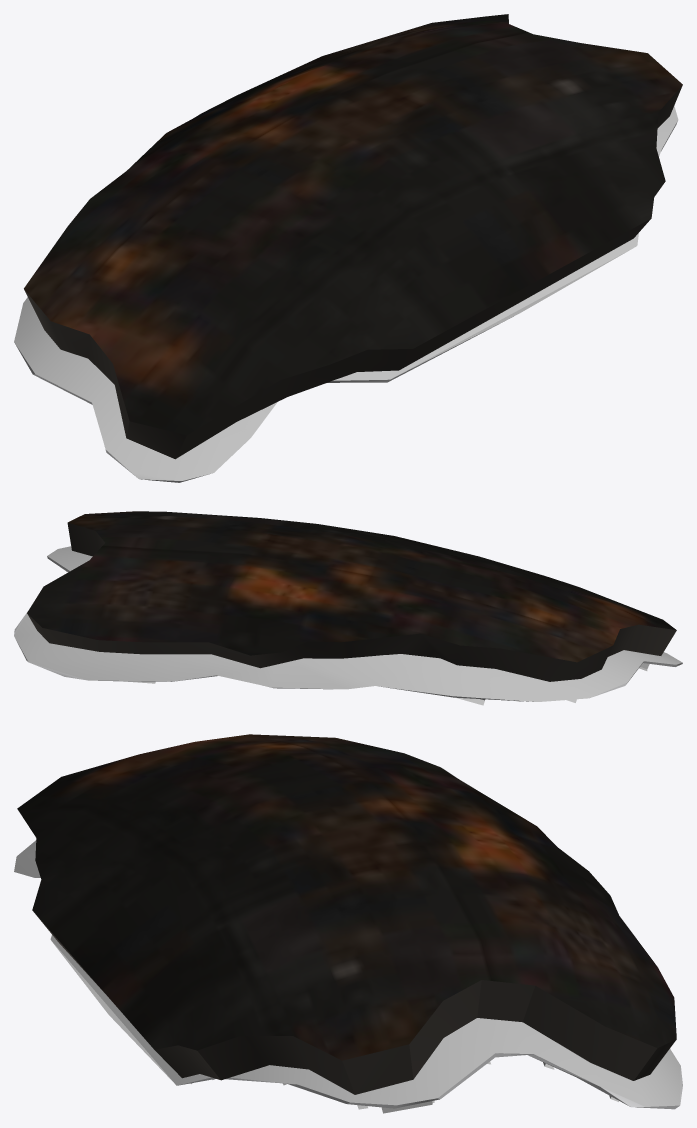
File: capsule_heatshield_panel_lod2.glb
The picture shows the model from 3 angles, top to bottom: view 1: azimuth 30°, elevation 25°; view 2: azimuth 150°, elevation 25°; view 3: azimuth 270°, elevation 25°; orthographic projection. The views are drawn at different scales.
Visible parts, largest first — view 1: capsule_heatshield_panel; view 2: capsule_heatshield_panel; view 3: capsule_heatshield_panel.
Boxes of the visible parts, left/top/right/bottom form: capsule_heatshield_panel: left=14, top=14, right=682, bottom=482; capsule_heatshield_panel: left=14, top=511, right=682, bottom=705; capsule_heatshield_panel: left=14, top=734, right=682, bottom=1113.
Size of the model in its own units: 1.23 by 0.3116 by 0.8869.
6 materials, 1 textured.
